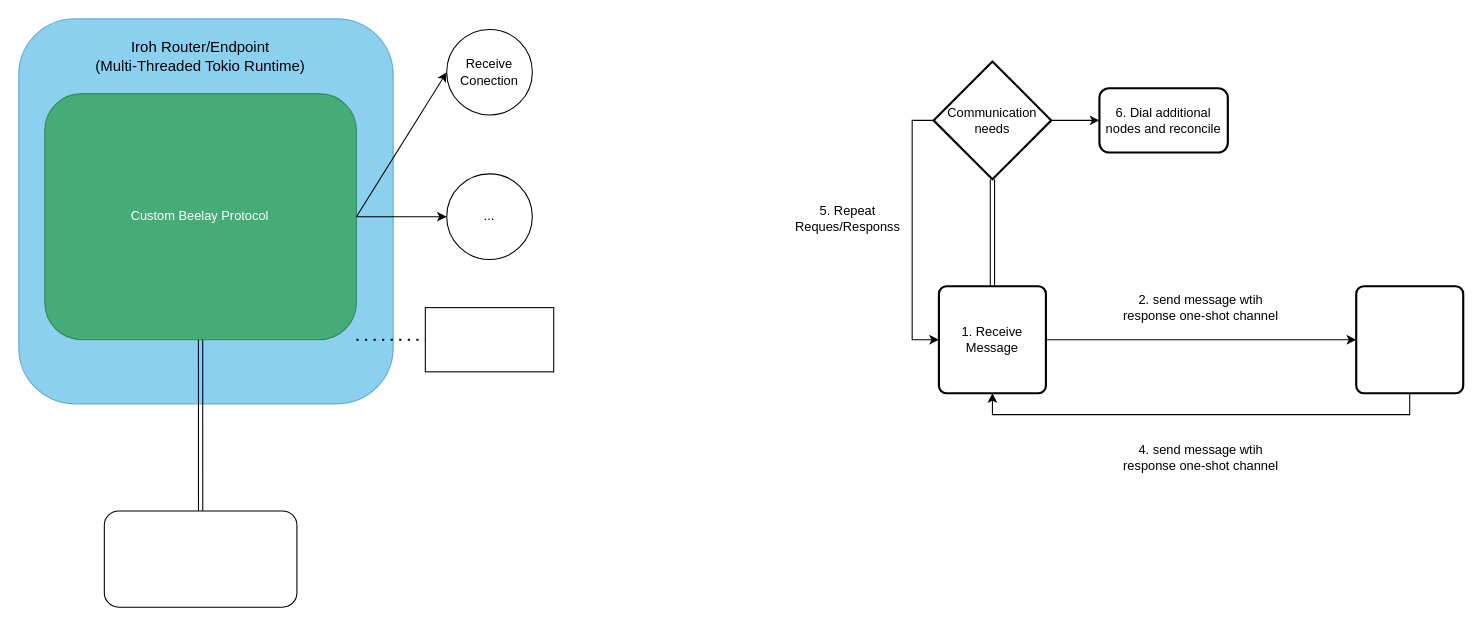
Image size: 1483x626. Some labels were removed from this diagram. The shapes that lost their labels are listed below. From the top down, each one's centre as x and y in pixels, then its label:
At (x=489, y=339): "Dial/Send".
At (x=1409, y=339): "3. Beelay State machine Processes".
At (x=200, y=558): "Beelay Actor (Single Threaded Tokio Runtime) - Channels to recieve and send".
